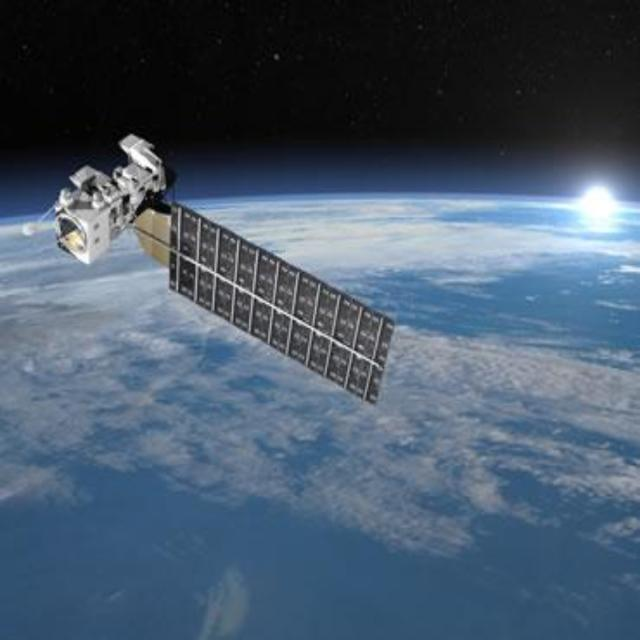satellite: (33, 125, 400, 428)
